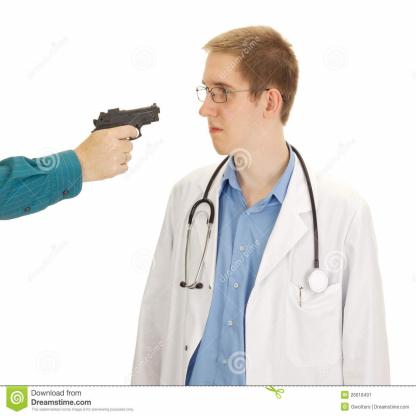pistol: (92, 103, 160, 139)
